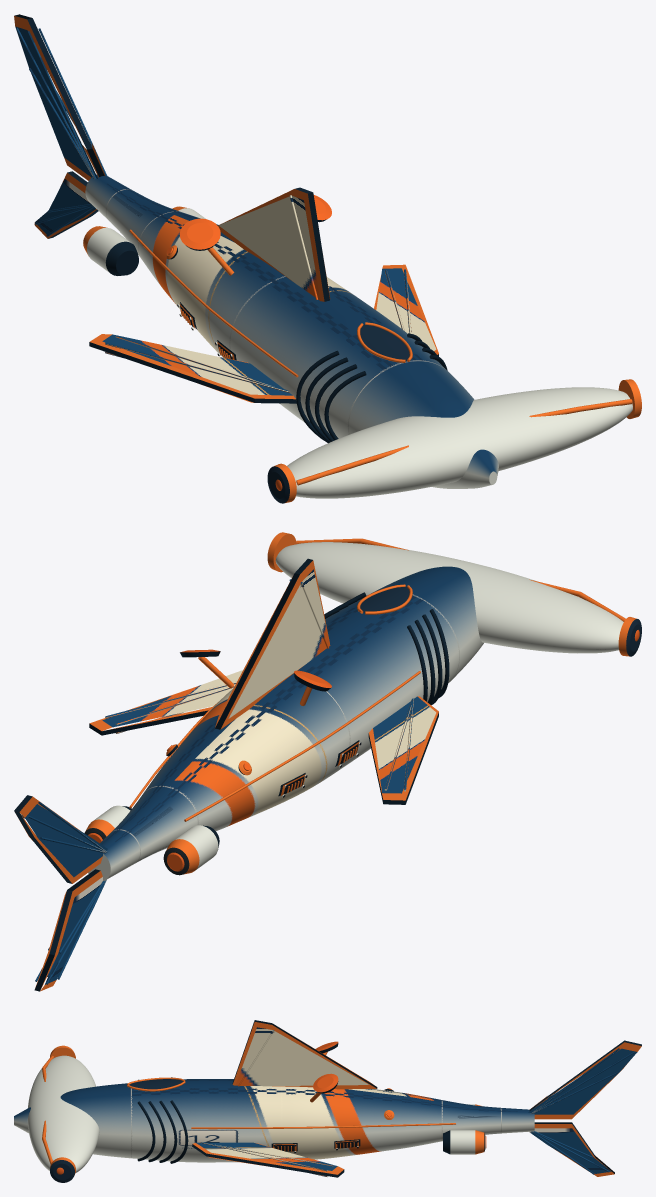
The picture shows the model from 3 angles, top to bottom: view 1: azimuth 30°, elevation 25°; view 2: azimuth 150°, elevation 25°; view 3: azimuth 270°, elevation 25°; orthographic projection. The views are drawn at different scales.
Visible parts, largest first — view 1: hammerhead_hull; view 2: hammerhead_hull; view 3: hammerhead_hull.
Boxes of the visible parts, x1=… form: hammerhead_hull: x1=14, y1=14, x2=641, y2=503; hammerhead_hull: x1=14, y1=532, x2=641, y2=991; hammerhead_hull: x1=14, y1=1020, x2=641, y2=1182.
Bounding box in the file's own units: 119 × 74.23 × 272.
1 material, 1 textured.
